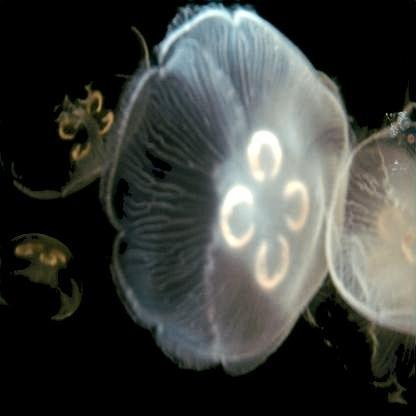Speckle: (102, 10, 352, 374), (7, 8, 155, 200), (327, 111, 416, 393), (3, 231, 86, 323)
